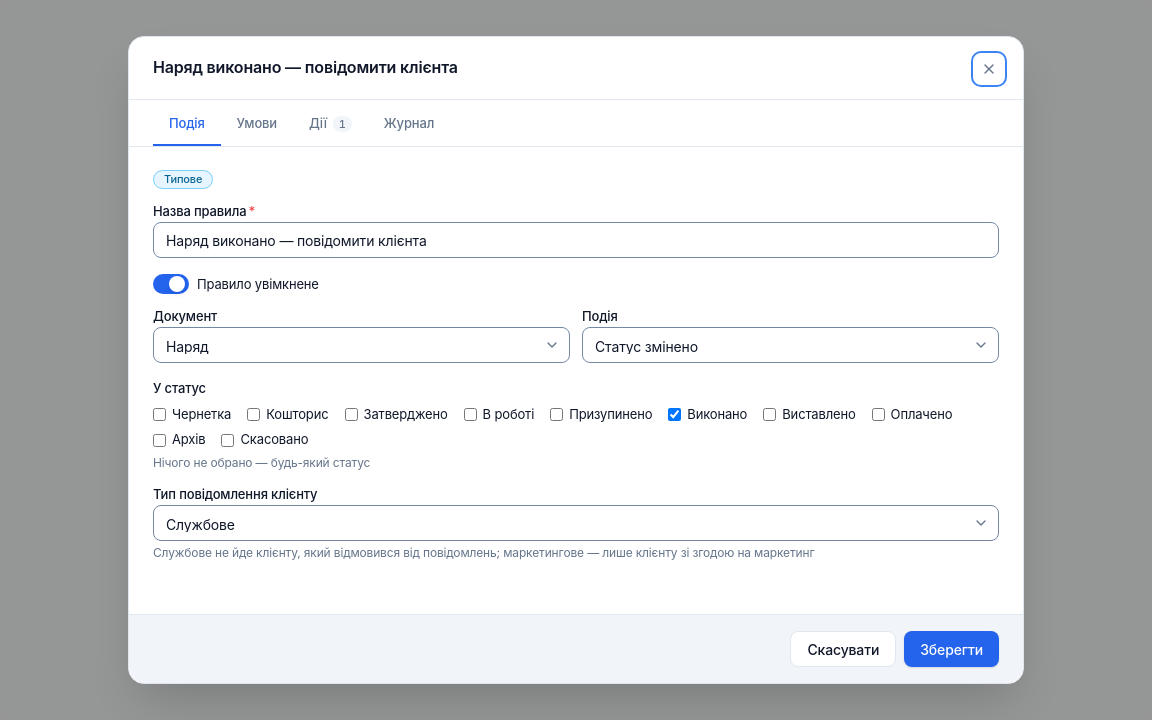
Scenario: Картка правила — наявне типове правило › «Надіслати тест» недоступний, доки правило має незбережені зміни
This screenshot has width=1152, height=720.
Expected: the field showing "Наряд виконано — повідомити клієнта" is shown, [153, 222, 999, 258]
Step 1. Click the tab "Дії 1" → (330, 125), box [293, 104, 368, 146]
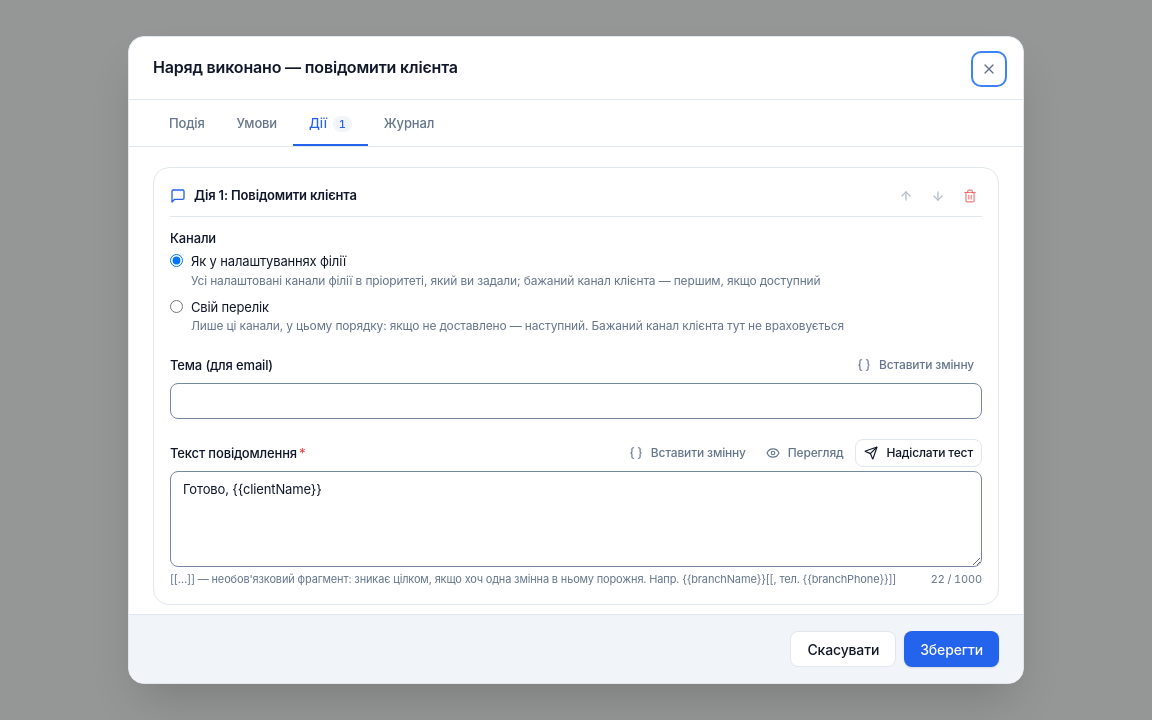
Now the button "Надіслати тест" is enabled, box [855, 439, 982, 467]
Step 2. Replace the text in the text box labelled "Текст повідомлення*" with "Інший текст" → (576, 519), box [170, 471, 982, 567]
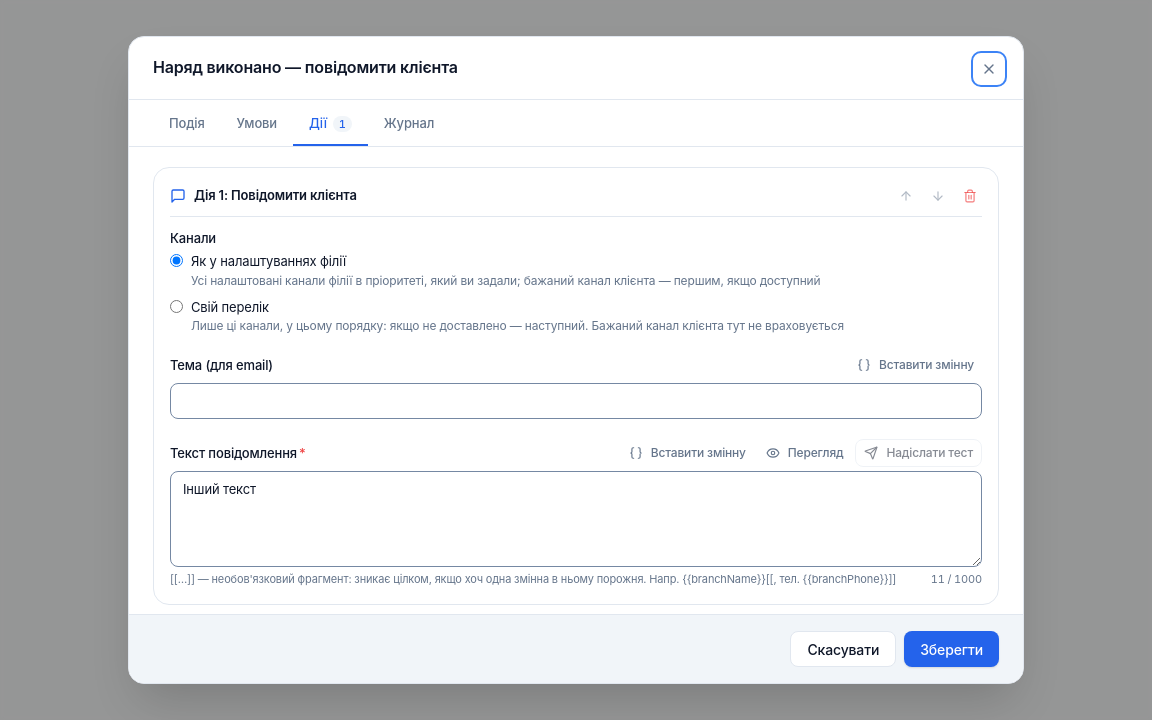
Now the button "Надіслати тест" is disabled, box [855, 439, 982, 467]
